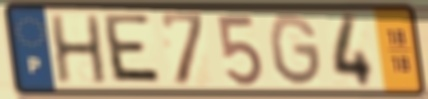4: (328, 10, 377, 91)
5: (213, 12, 266, 89)
7: (159, 10, 208, 89)
E: (102, 11, 165, 87)
G: (266, 12, 325, 89)
H: (47, 12, 110, 86)
